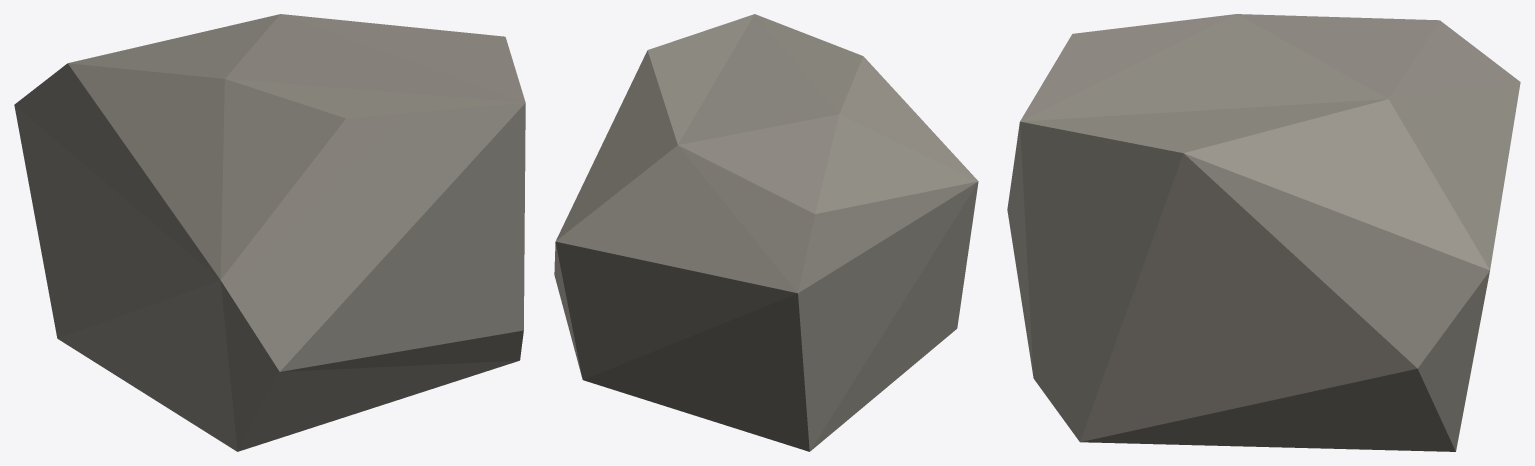
The model's file is Rock_15.fbx.
3 renders of one model, left to right at view 1: azimuth 30°, elevation 25°; view 2: azimuth 150°, elevation 25°; view 3: azimuth 270°, elevation 25°, orthographic. The views are drawn at different scales.
Parts seen in each view (by area): view 1: Rock_15; view 2: Rock_15; view 3: Rock_15.
Part boxes in pixels (<box>): Rock_15: <box>14,14,525,451</box>; Rock_15: <box>554,14,978,451</box>; Rock_15: <box>1007,14,1520,451</box>.
Bounding box in the file's own units: 35.8 × 31.67 × 41.92.
